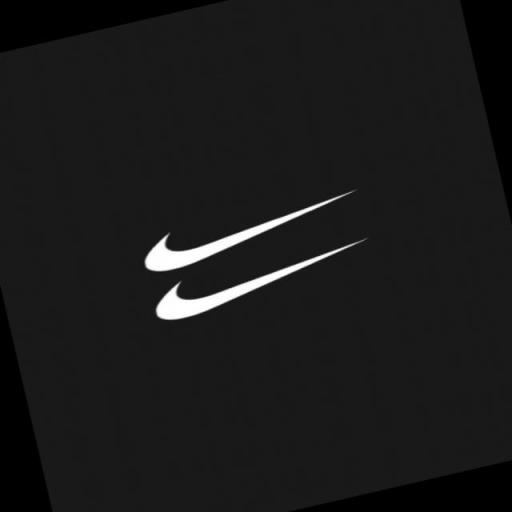Nike: (127, 182, 376, 285)
